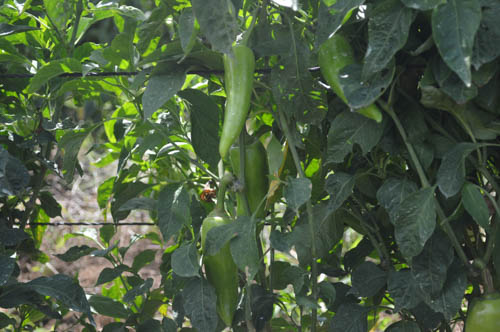ChiliPepper: (323, 39, 379, 120), (219, 46, 256, 164), (203, 210, 237, 323), (226, 138, 267, 228)
